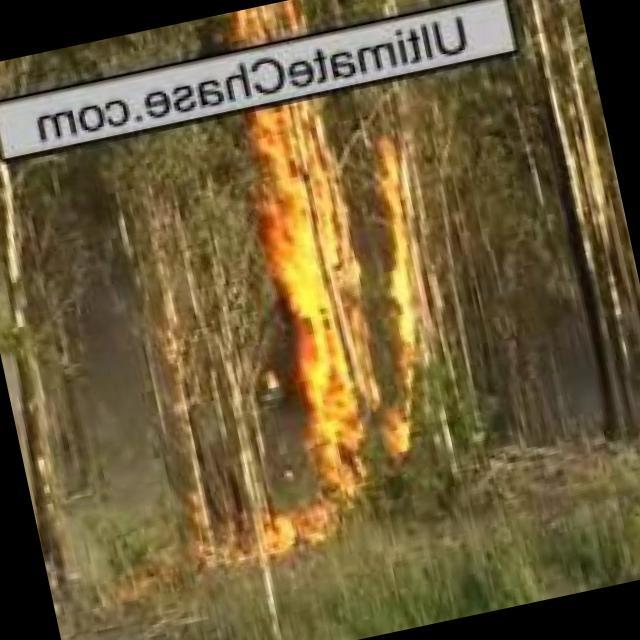Fire: (252, 132, 480, 485), (234, 1, 323, 163), (240, 491, 369, 571)
